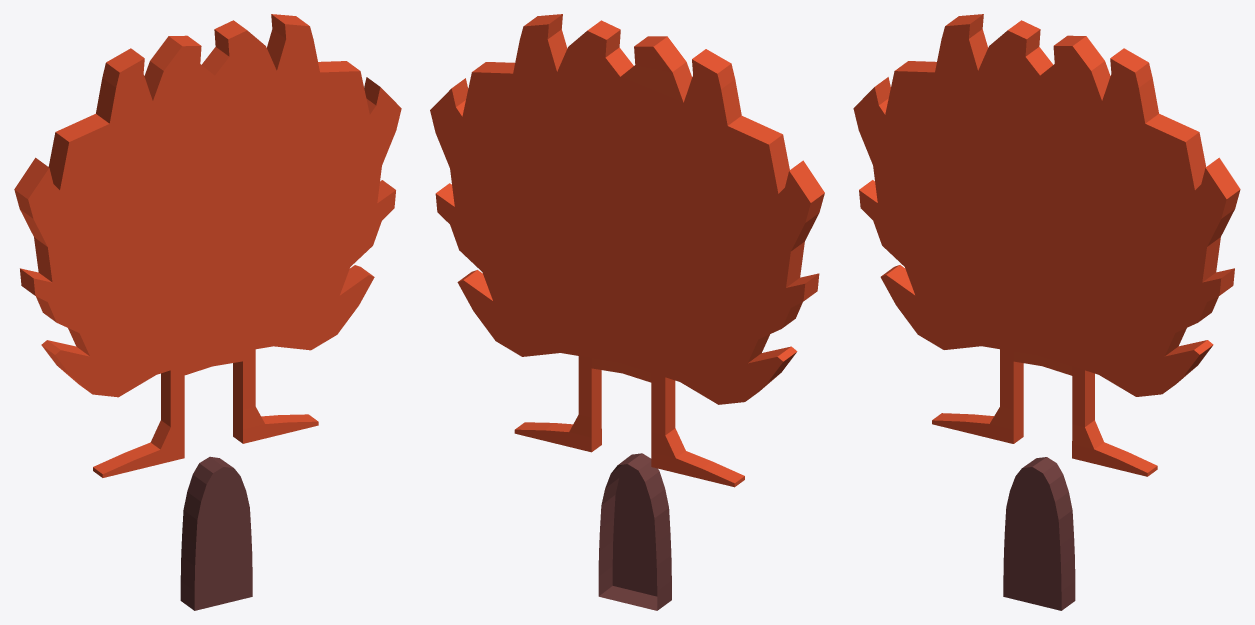
Rendered from Door.fbx.
The picture shows the model from 3 angles, left to right: view 1: azimuth 30°, elevation 25°; view 2: azimuth 150°, elevation 25°; view 3: azimuth 330°, elevation 25°; orthographic projection. The views are drawn at different scales.
Parts seen in each view (by area): view 1: Vert.003, puerta, Vert.001; view 2: Vert.003, puerta, Vert.001; view 3: Vert.003, puerta, Vert.001.
Part boxes in pixels (<box>): Vert.003: <box>14,14,401,397</box>; puerta: <box>180,456,252,610</box>; Vert.001: <box>93,349,318,477</box>; Vert.003: <box>430,14,824,404</box>; puerta: <box>598,453,671,610</box>; Vert.001: <box>514,356,744,487</box>; Vert.003: <box>853,14,1240,396</box>; puerta: <box>1003,457,1075,610</box>; Vert.001: <box>932,349,1157,476</box>.
Size of the model in its own units: 403 by 577 by 41.28.
